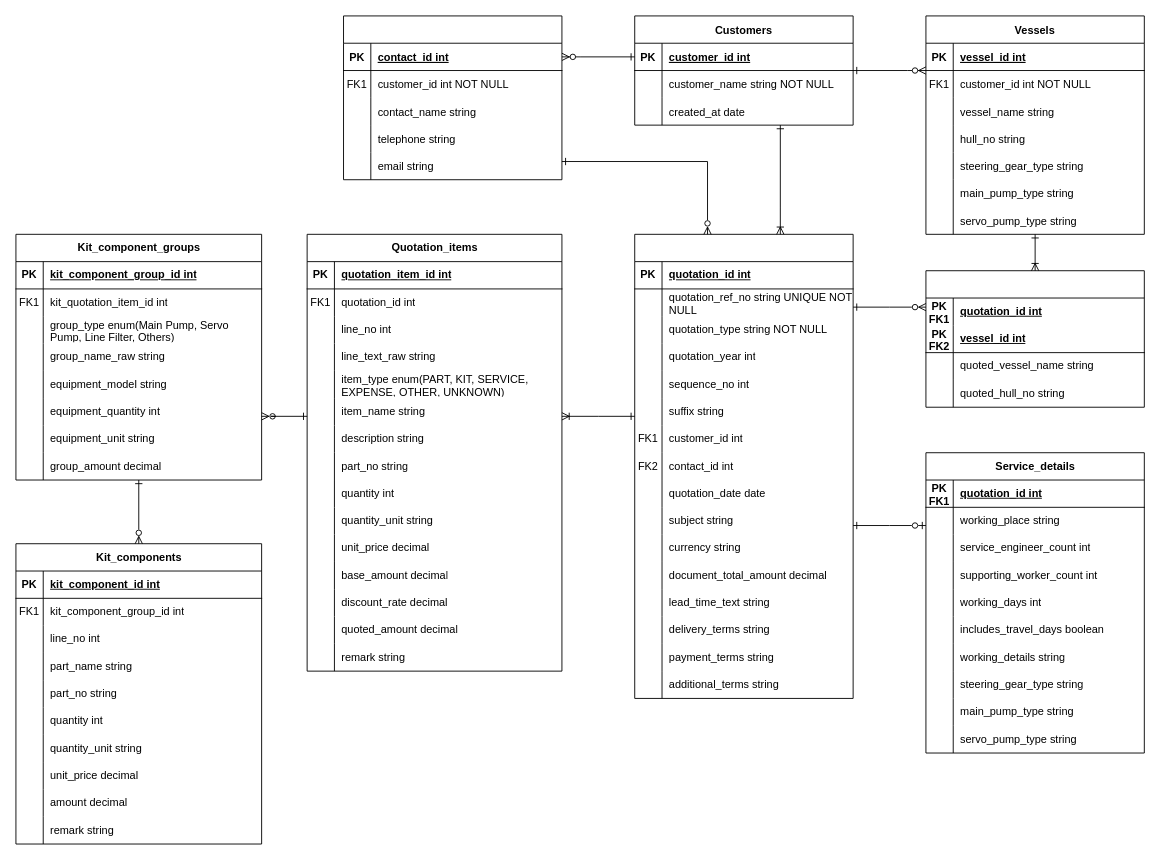
This 1160x860 diagram has some shape labels left out. The shapes that lost their labels are listed below. From the top down, each one's box as (x1, y1, x2, y2) in pixels, then its label:
(343, 15, 562, 180): Contacts
(925, 270, 1144, 407): Quotation_vessels
(634, 233, 853, 698): Quotations
